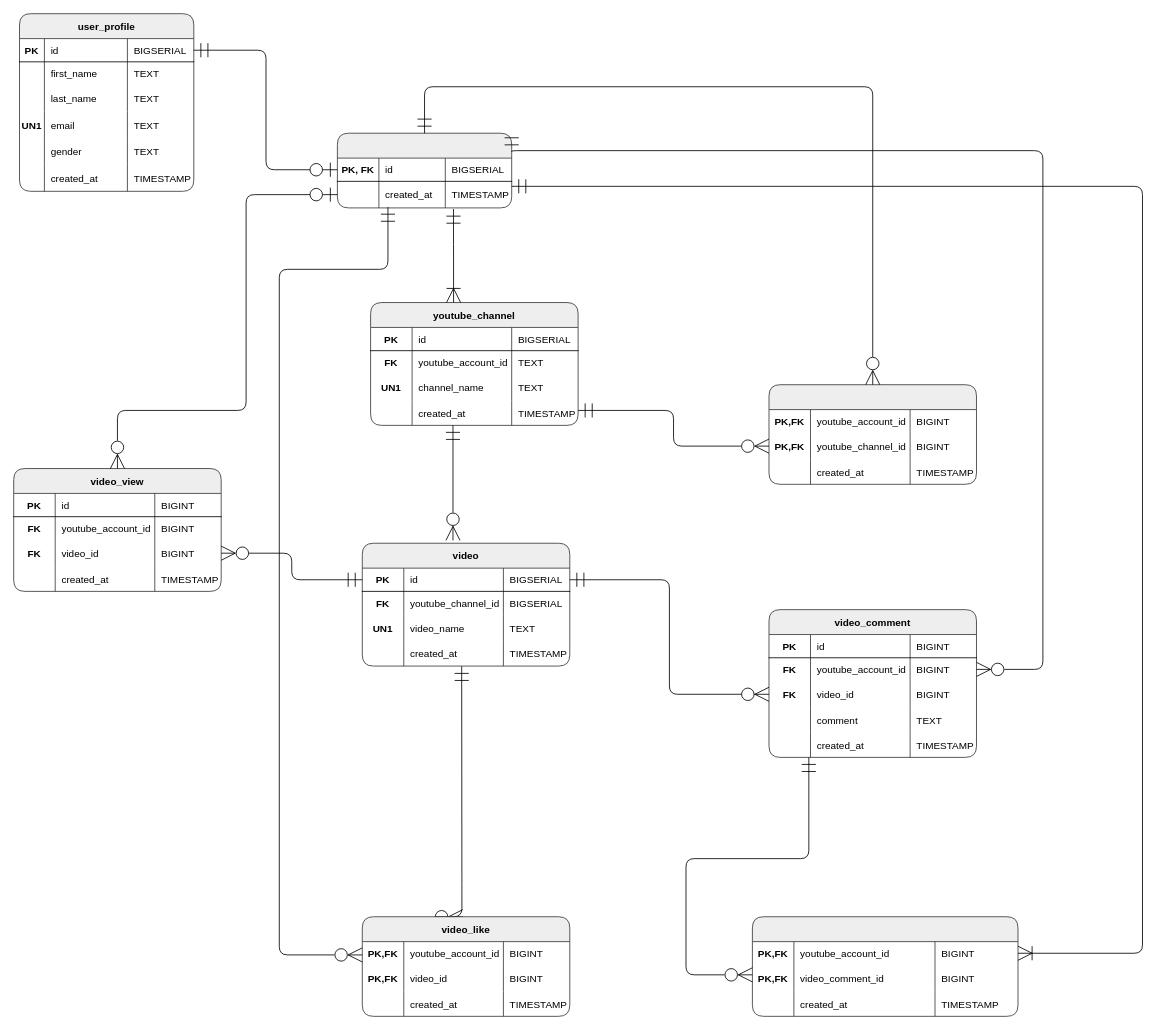
Some shapes in this 1156 by 1030 pixel diagram are drawn without their labels. The shapes that lost their labels are listed below. From the top down, each one's box as (x1, y1, x2, y2) in pixels, then its label:
(337, 132, 512, 208): youtube_account
(768, 384, 976, 484): channel_subscriber
(752, 916, 1018, 1016): youtube_video_like
